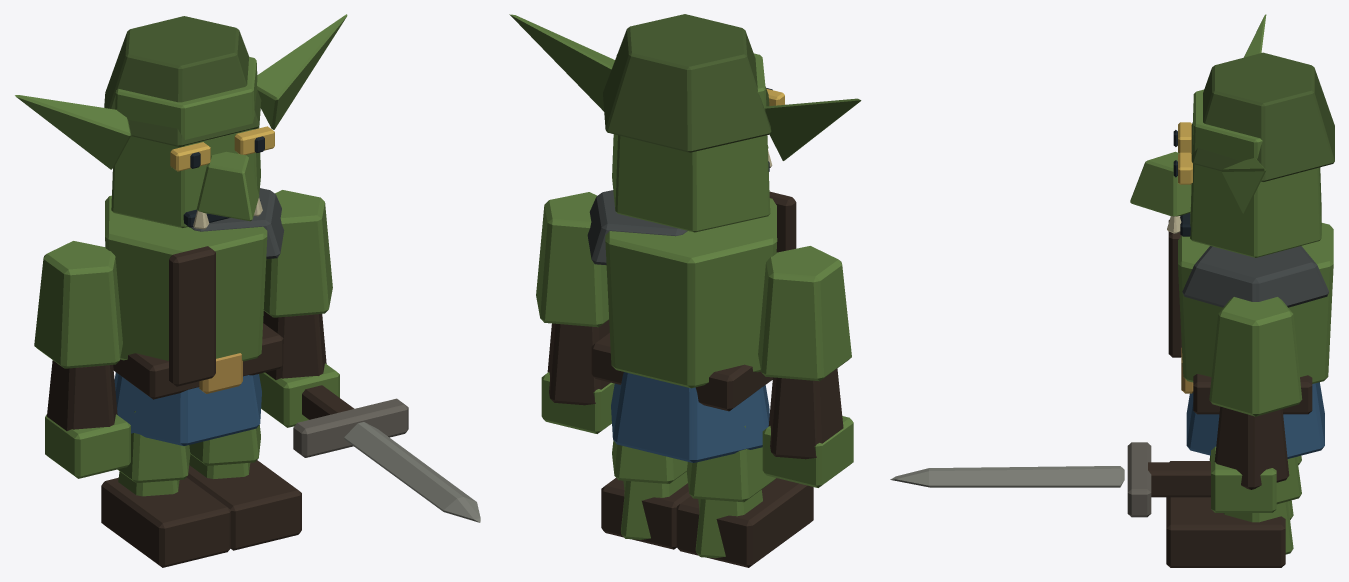
The model's file is goblin.glb.
The picture shows the model from 3 angles, left to right: view 1: azimuth 30°, elevation 25°; view 2: azimuth 150°, elevation 25°; view 3: azimuth 270°, elevation 25°; orthographic projection. The views are drawn at different scales.
Visible parts, largest first — view 1: head.002, torso.002, pelvis.002, upper_arm_l.002, shin_l.002, weapon.002, forearm_l.002, upper_arm_r.002, shin_r.002, forearm_r.002, thigh_l.002, thigh_r.002; view 2: head.002, torso.002, pelvis.002, upper_arm_l.002, forearm_l.002, shin_l.002, upper_arm_r.002, forearm_r.002, shin_r.002, thigh_l.002, thigh_r.002; view 3: head.002, torso.002, upper_arm_r.002, weapon.002, shin_r.002, forearm_r.002, pelvis.002, thigh_r.002.
Boxes of the visible parts, x1,y1,x2,y2 form: head.002: [15, 14, 347, 229]; torso.002: [105, 188, 284, 386]; pelvis.002: [113, 323, 283, 445]; upper_arm_l.002: [34, 241, 122, 368]; shin_l.002: [101, 471, 230, 567]; weapon.002: [293, 385, 480, 522]; forearm_l.002: [45, 360, 130, 478]; upper_arm_r.002: [263, 190, 332, 317]; shin_r.002: [186, 454, 301, 550]; forearm_r.002: [259, 311, 339, 427]; thigh_l.002: [117, 411, 190, 483]; thigh_r.002: [189, 425, 260, 465]; head.002: [509, 14, 861, 232]; torso.002: [587, 190, 796, 388]; pelvis.002: [591, 333, 772, 462]; upper_arm_l.002: [758, 246, 851, 381]; forearm_l.002: [762, 368, 853, 487]; shin_l.002: [676, 478, 813, 567]; upper_arm_r.002: [536, 192, 609, 327]; forearm_r.002: [541, 320, 614, 433]; shin_r.002: [601, 471, 690, 549]; thigh_l.002: [686, 426, 775, 502]; thigh_r.002: [612, 440, 687, 483]; head.002: [1130, 14, 1334, 257]; torso.002: [1168, 217, 1333, 383]; upper_arm_r.002: [1209, 297, 1302, 416]; weapon.002: [890, 442, 1210, 517]; shin_r.002: [1166, 497, 1293, 567]; forearm_r.002: [1211, 406, 1289, 512]; pelvis.002: [1181, 347, 1324, 458]; thigh_r.002: [1276, 457, 1301, 504].
Bounding box in the file's own units: 1.24 × 1.7 × 1.49.
